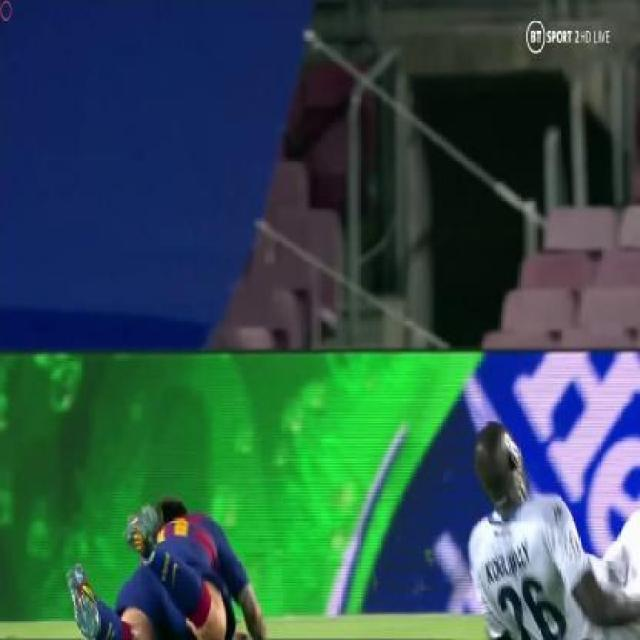player: (453, 422, 639, 639), (61, 484, 283, 640)
